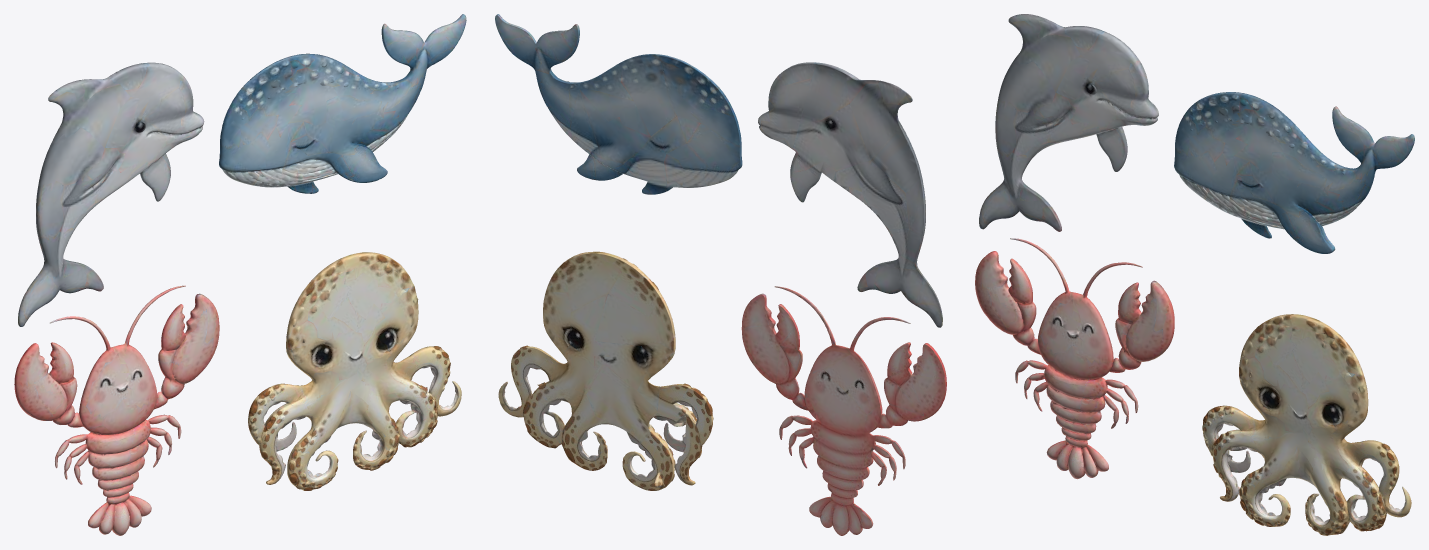
3 views of the same model, side by side, from view 1: azimuth 30°, elevation 25°; view 2: azimuth 150°, elevation 25°; view 3: azimuth 330°, elevation 25° (orthographic). The views are drawn at different scales.
Visible parts, largest first — view 1: Mesh 4, Mesh 3, Mesh 2, Mesh 1; view 2: Mesh 4, Mesh 3, Mesh 2, Mesh 1; view 3: Mesh 4, Mesh 3, Mesh 2, Mesh 1.
Boxes of the visible parts, x1,y1,x2,y2 form: Mesh 4: [248, 252, 461, 490]; Mesh 3: [219, 14, 466, 193]; Mesh 2: [18, 62, 204, 326]; Mesh 1: [14, 285, 219, 535]; Mesh 4: [498, 251, 713, 490]; Mesh 3: [495, 14, 742, 194]; Mesh 2: [758, 62, 942, 327]; Mesh 1: [741, 286, 946, 535]; Mesh 4: [1202, 314, 1411, 535]; Mesh 3: [1174, 92, 1414, 253]; Mesh 2: [979, 14, 1158, 231]; Mesh 1: [975, 238, 1174, 479].
Bounding box in the file's own units: 1.9 × 1.89 × 0.0741.
4 materials, 4 textured.
